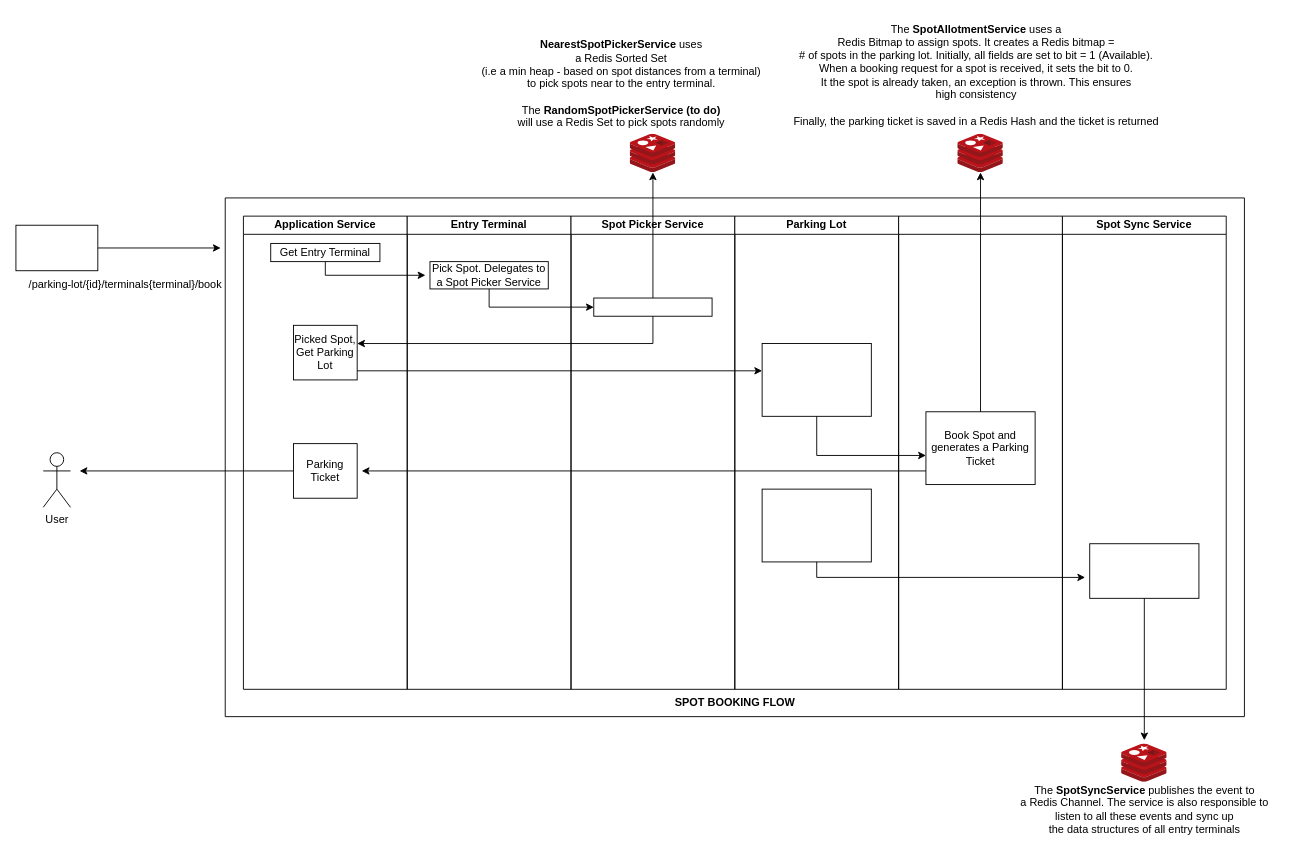
Some shapes in this 1297 by 856 pixel diagram are drawn without their labels. The shapes that lost their labels are listed below. From the top down, each one's box as (x1, y1, x2, y2) in pixels, then its label:
(15, 224, 98, 271): Vehicle Entry at an Entry Terminal
(593, 297, 712, 316): Picks Spot
(761, 343, 871, 416): Book Spot and generate a Parking Ticket. Delegates to a Spot Allotment Service
(898, 215, 1062, 689): Spot Allotment Service
(761, 488, 871, 562): Creates a SpotBooked Event. Publishes this event to the Spot Sync Service
(1089, 543, 1199, 598): Sync Spots b/w terminals
